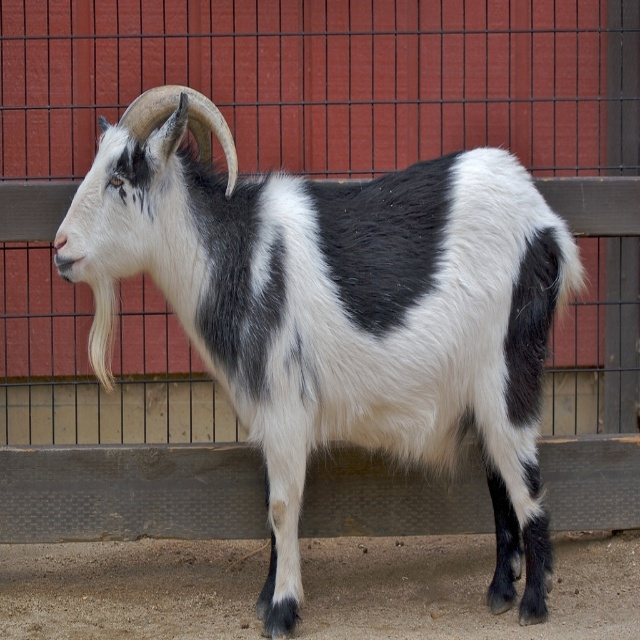Goat: (96, 81, 592, 640)
